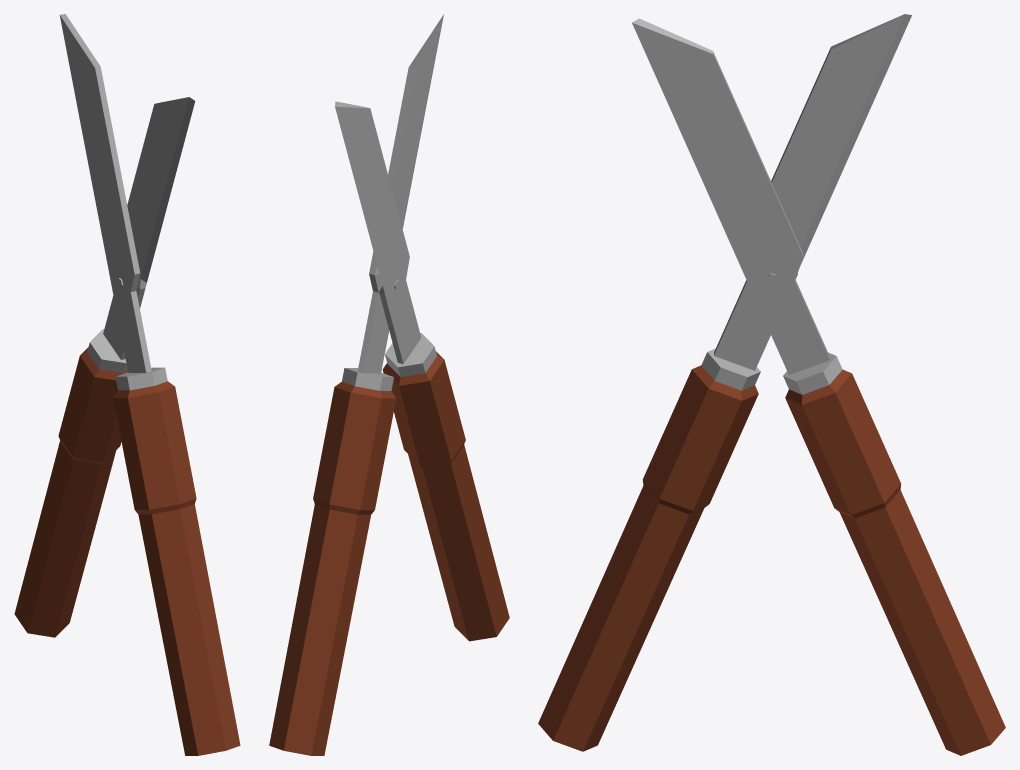
Rendered from Tesoura Agrícola.fbx.
3 renders of one model, left to right at view 1: azimuth 30°, elevation 25°; view 2: azimuth 150°, elevation 25°; view 3: azimuth 270°, elevation 25°, orthographic. The views are drawn at different scales.
Visible parts, largest first — view 1: cabo 1, cabo 2, lamina 1, lamina 2; view 2: cabo 2, cabo 1, lamina 1, lamina 2; view 3: cabo 2, cabo 1, lamina 2, lamina 1.
Part boxes in pixels (x1,y1,x2,y2): cabo 1: [113, 381, 240, 755]; cabo 2: [14, 347, 127, 637]; lamina 1: [59, 14, 167, 390]; lamina 2: [87, 97, 195, 372]; cabo 2: [269, 382, 396, 755]; cabo 1: [382, 351, 509, 641]; lamina 1: [335, 101, 436, 376]; lamina 2: [342, 14, 443, 390]; cabo 2: [785, 369, 1005, 755]; cabo 1: [538, 365, 758, 751]; lamina 2: [632, 18, 842, 394]; lamina 1: [701, 14, 911, 390].
Bounding box in the file's own units: 8.01 × 89.33 × 51.78.
